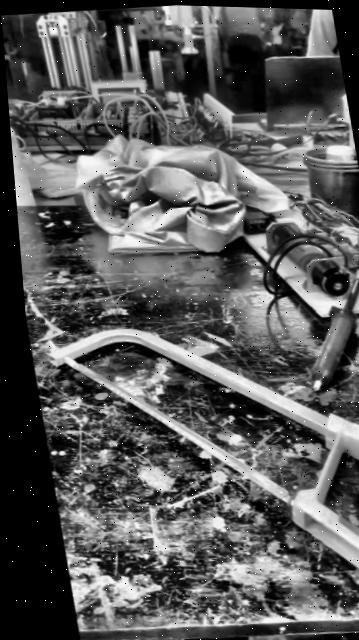pot: (300, 151, 359, 223)
